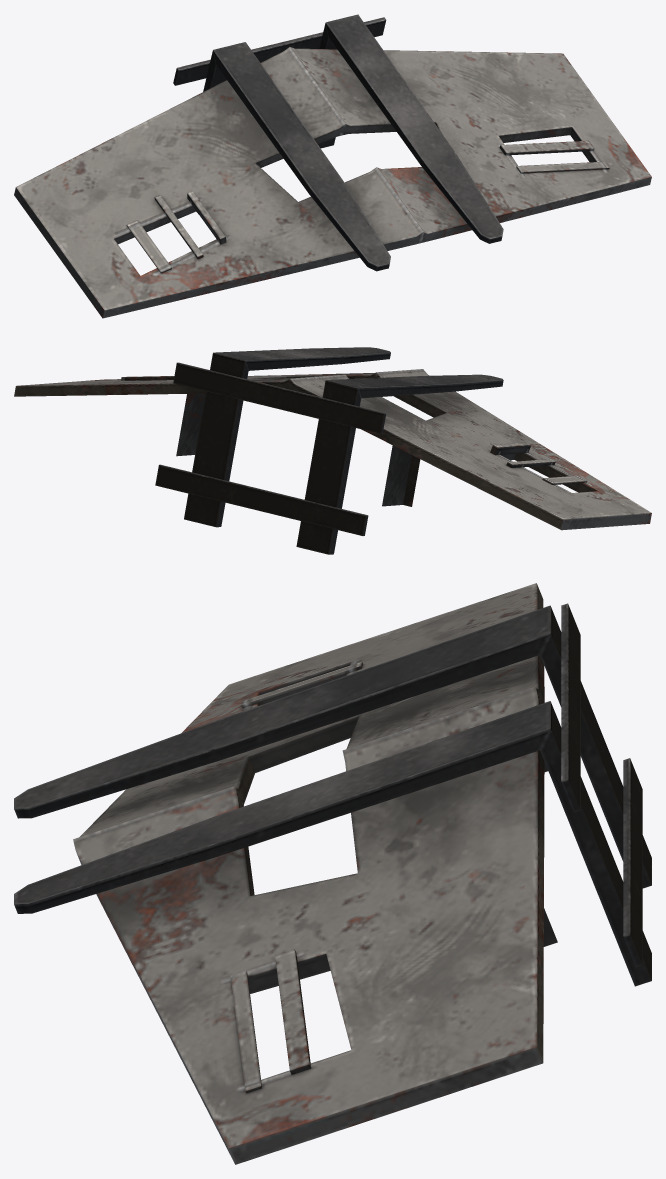
The model's file is FordF700Bumper_WorldItem.fbx.
3 renders of one model, top to bottom at view 1: azimuth 30°, elevation 25°; view 2: azimuth 150°, elevation 25°; view 3: azimuth 270°, elevation 25°, orthographic. The views are drawn at different scales.
Visible parts, largest first — view 1: FrontBumper; view 2: FrontBumper; view 3: FrontBumper.
Part boxes in pixels (left/top/right/bottom): FrontBumper: left=14, top=14, right=651, bottom=318; FrontBumper: left=14, top=347, right=651, bottom=554; FrontBumper: left=14, top=583, right=651, bottom=1164.
Bounding box in the file's own units: 3.38 × 0.9031 × 1.96.
